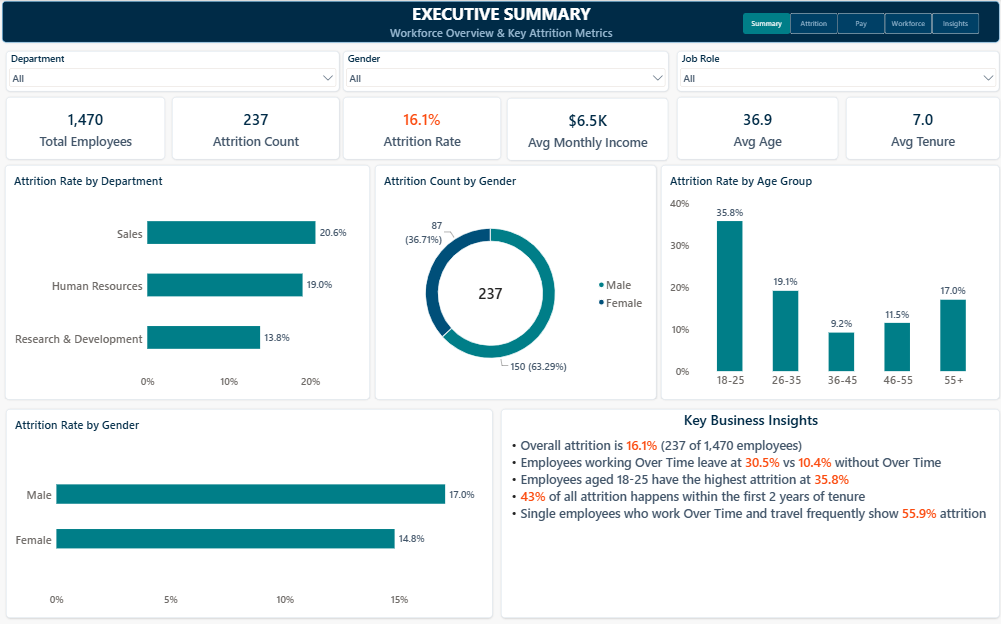

Layout of this report page (visuals, bound fields, positions):
{"tool":"powerbi","page":{"name":"Summary","canvas":[1920,1200],"ordinal":0},"visuals":[{"type":"textbox","title":"EXECUTIVE SUMMARY","box":[8.1,4,1899.8,78.8],"z":0},{"type":"slicer","fields":{"Values":["HR_Data.Department"]},"box":[16.2,99,634.6,76.8],"z":1000},{"type":"slicer","fields":{"Values":["HR_Data.Gender"]},"box":[656.8,99,620.5,76.8],"z":2000},{"type":"slicer","fields":{"Values":["HR_Data.JobRole"]},"box":[1293.5,99,614.4,76.8],"z":3000},{"type":"card","fields":{"Values":["_Measures.Total Employees"]},"box":[16.2,185.9,303.2,119.2],"z":4000},{"type":"card","fields":{"Values":["_Measures.Attrition Count"]},"box":[331.5,185.9,319.3,119.2],"z":5000},{"type":"card","fields":{"Values":["_Measures.Attrition Rate"]},"box":[656.8,185.9,301.1,119.2],"z":6000},{"type":"card","fields":{"Values":["_Measures.Avg Monthly Income"]},"box":[970.1,188,307.2,119.2],"z":7000},{"type":"card","fields":{"Values":["_Measures.Avg Age"]},"box":[1293.5,185.9,307.2,119.2],"z":8000},{"type":"card","fields":{"Values":["_Measures.Avg Tenure"]},"box":[1614.8,185.9,293.1,119.2],"z":9000},{"type":"clusteredBarChart","title":"Attrition Rate by Department","fields":{"Category":["HR_Data.Department"],"Y":["_Measures.Attrition Rate"]},"box":[14.1,315.3,695.2,446.7],"z":10000},{"type":"donutChart","fields":{"Category":["HR_Data.Gender"],"Y":["_Measures.Attrition Count"]},"box":[717.5,315.3,535.6,446.7],"z":11000},{"type":"clusteredColumnChart","fields":{"Category":["HR_Data.Age Group"],"Y":["_Measures.Attrition Rate"]},"box":[1263.2,315.3,644.7,446.7],"z":12000},{"type":"textbox","title":"Key Business Insights","box":[958,780.1,949.9,398.1],"z":13000},{"type":"clusteredBarChart","fields":{"Category":["HR_Data.Gender"],"Y":["_Measures.Attrition Rate"]},"box":[15.2,781,927.4,397.7],"z":14000},{"type":"pageNavigator","box":[1418.8,26.3,452.7,40.4],"z":15000}]}

Visuals, with their boxes in screenshot pixels (x1, y1, x2, y2), scaled from the page's 1920x1200 canvas onto the 1004x624 screenshot:
"EXECUTIVE SUMMARY" textbox: select_region(4, 2, 998, 43)
slicer - HR_Data.Department: select_region(8, 51, 340, 91)
slicer - HR_Data.Gender: select_region(343, 51, 668, 91)
slicer - HR_Data.JobRole: select_region(676, 51, 998, 91)
card - _Measures.Total Employees: select_region(8, 97, 167, 159)
card - _Measures.Attrition Count: select_region(173, 97, 340, 159)
card - _Measures.Attrition Rate: select_region(343, 97, 501, 159)
card - _Measures.Avg Monthly Income: select_region(507, 98, 668, 160)
card - _Measures.Avg Age: select_region(676, 97, 837, 159)
card - _Measures.Avg Tenure: select_region(844, 97, 998, 159)
"Attrition Rate by Department" clusteredBarChart: select_region(7, 164, 371, 396)
donutChart - HR_Data.Gender x _Measures.Attrition Count: select_region(375, 164, 655, 396)
clusteredColumnChart - HR_Data.Age Group x _Measures.Attrition Rate: select_region(661, 164, 998, 396)
"Key Business Insights" textbox: select_region(501, 406, 998, 613)
clusteredBarChart - HR_Data.Gender x _Measures.Attrition Rate: select_region(8, 406, 493, 613)
pageNavigator: select_region(742, 14, 979, 35)
